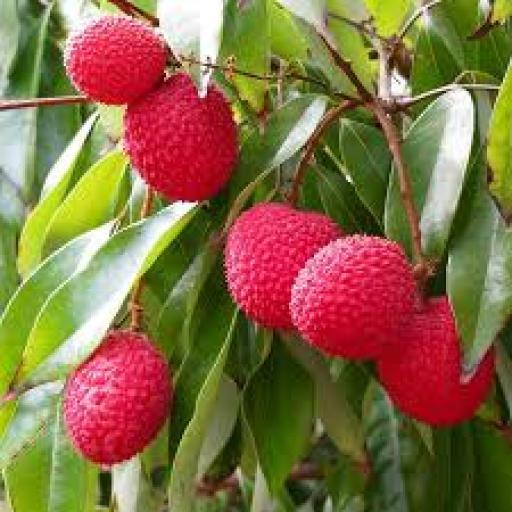lychee: (292, 235, 416, 359), (64, 330, 172, 466), (378, 299, 493, 425), (226, 203, 341, 329), (126, 73, 236, 200), (64, 16, 166, 104)
